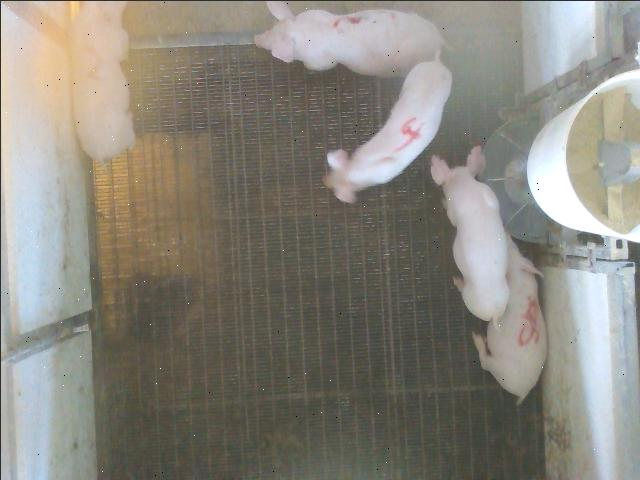pig-2: (69, 2, 134, 161)
pig-3: (254, 1, 444, 75)
pig-4: (325, 59, 451, 201)
pig-5: (471, 236, 546, 404)
